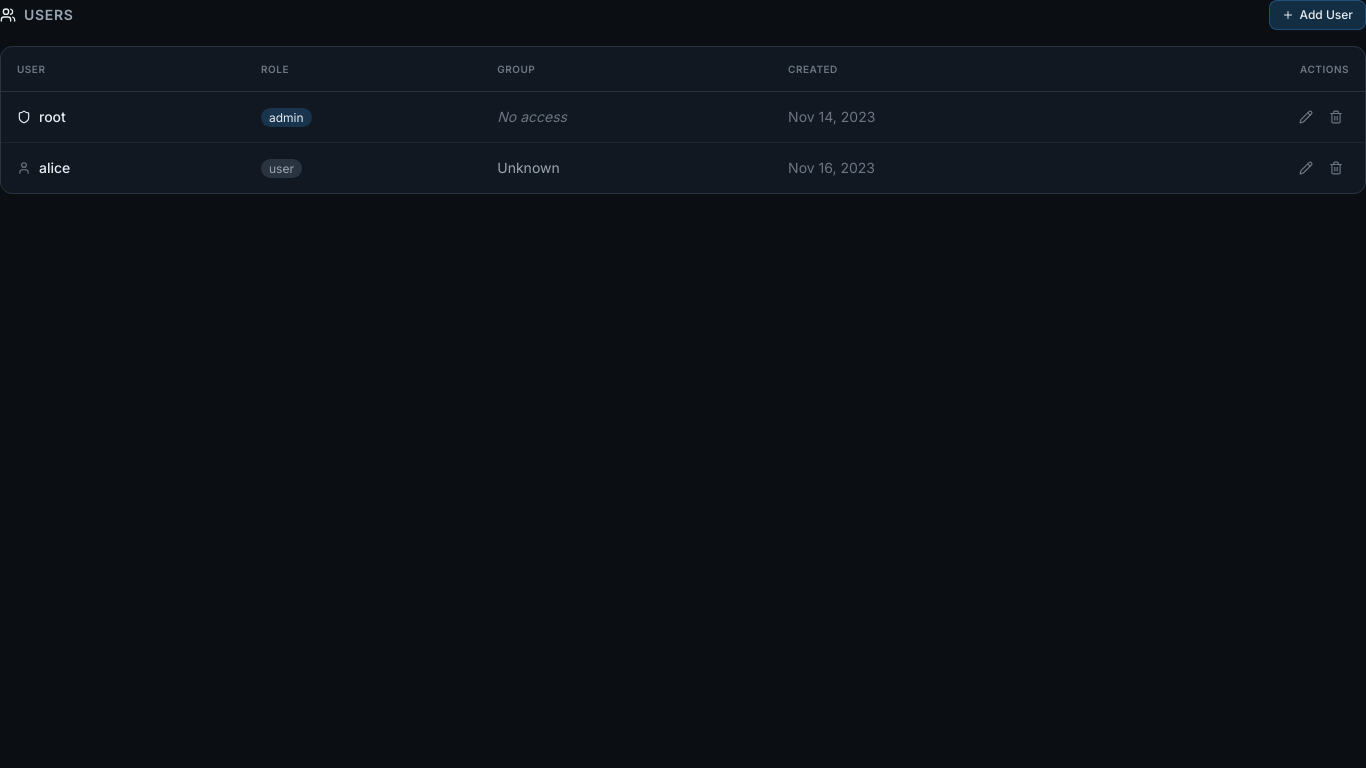
UserManagementPage › surfaces a 409 when deleting the last admin and keeps the row
Expected: the text "root" is shown, [39,107,66,127]
# Delete the admin row (index 0).
Click the button titled "Delete user" in the row of "root".
click(1336, 117)  # box [1323,104,1349,130]
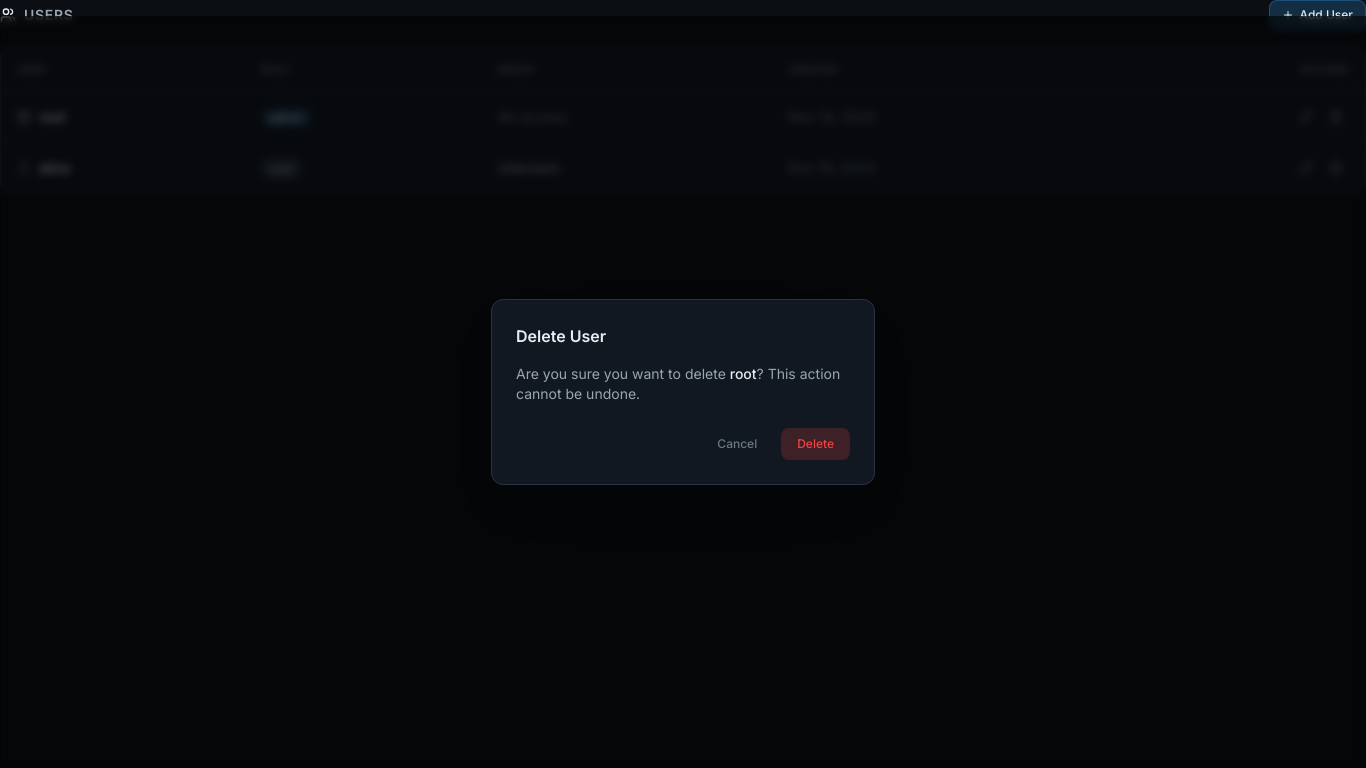
Click the button "Delete".
click(816, 444)  # box [781,428,850,460]
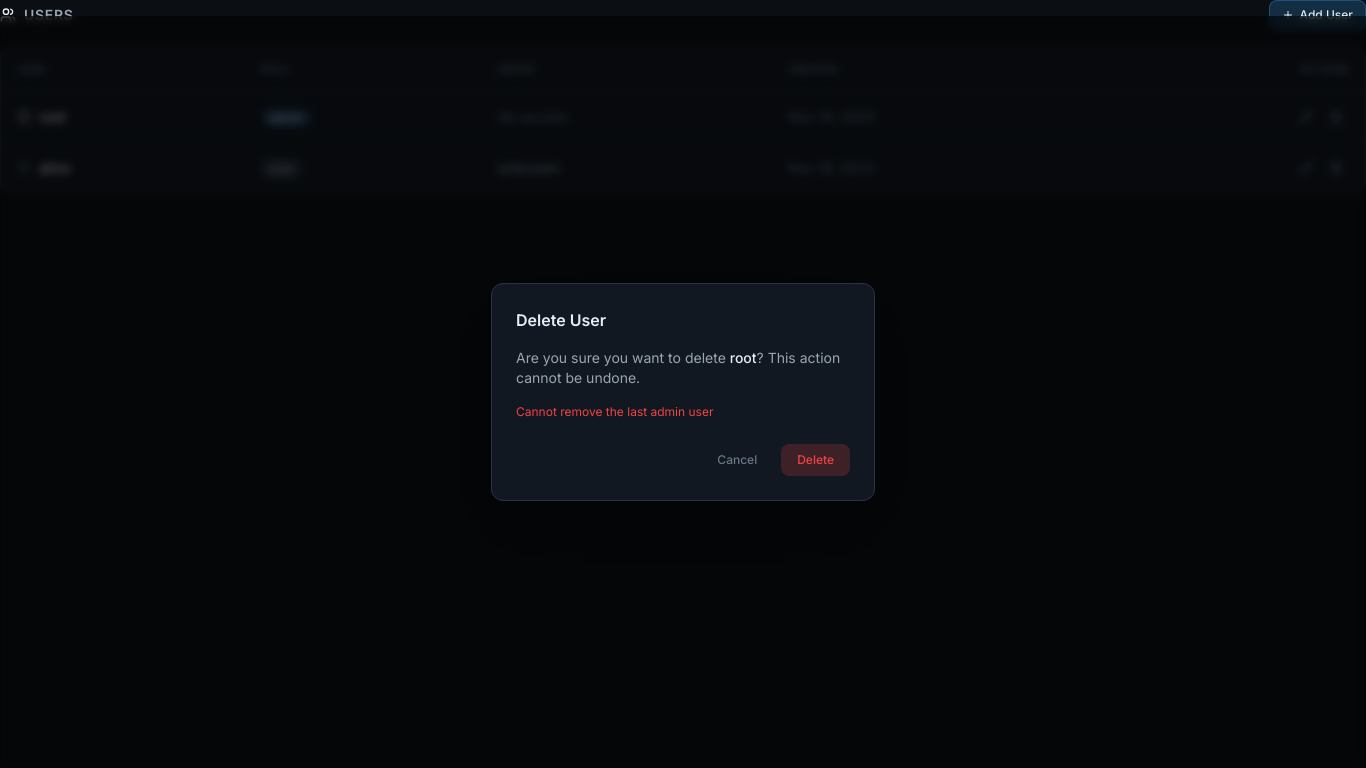
Result: the text "Cannot remove the last admin user" is shown at [516,404,713,419]
